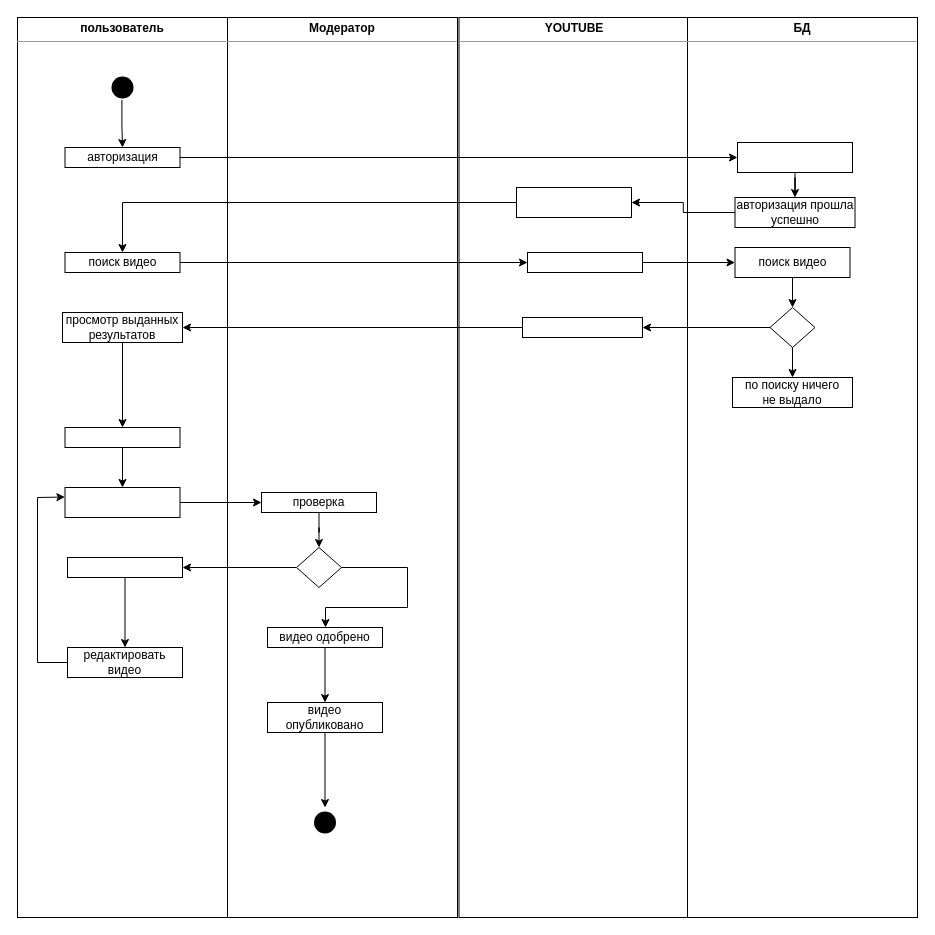
This 935x935 diagram has some shape labels left out. The centre of each missing label's shape, as x and y in pixels:
"видео не одобрено" belongs at [124,567].
"записать данные в бд" belongs at [794,157].
"запрос в бд" belongs at [584,262].
"отправил запрос на одобрение" belongs at [122,502].
"пользователь авторизовался" belongs at [574,202].
"результаты поиска" belongs at [582,327].
"создал свое видео" belongs at [122,437].
